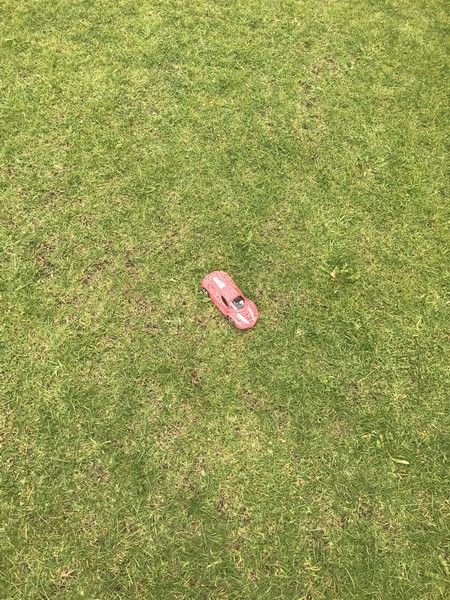RC: (198, 269, 261, 332)
